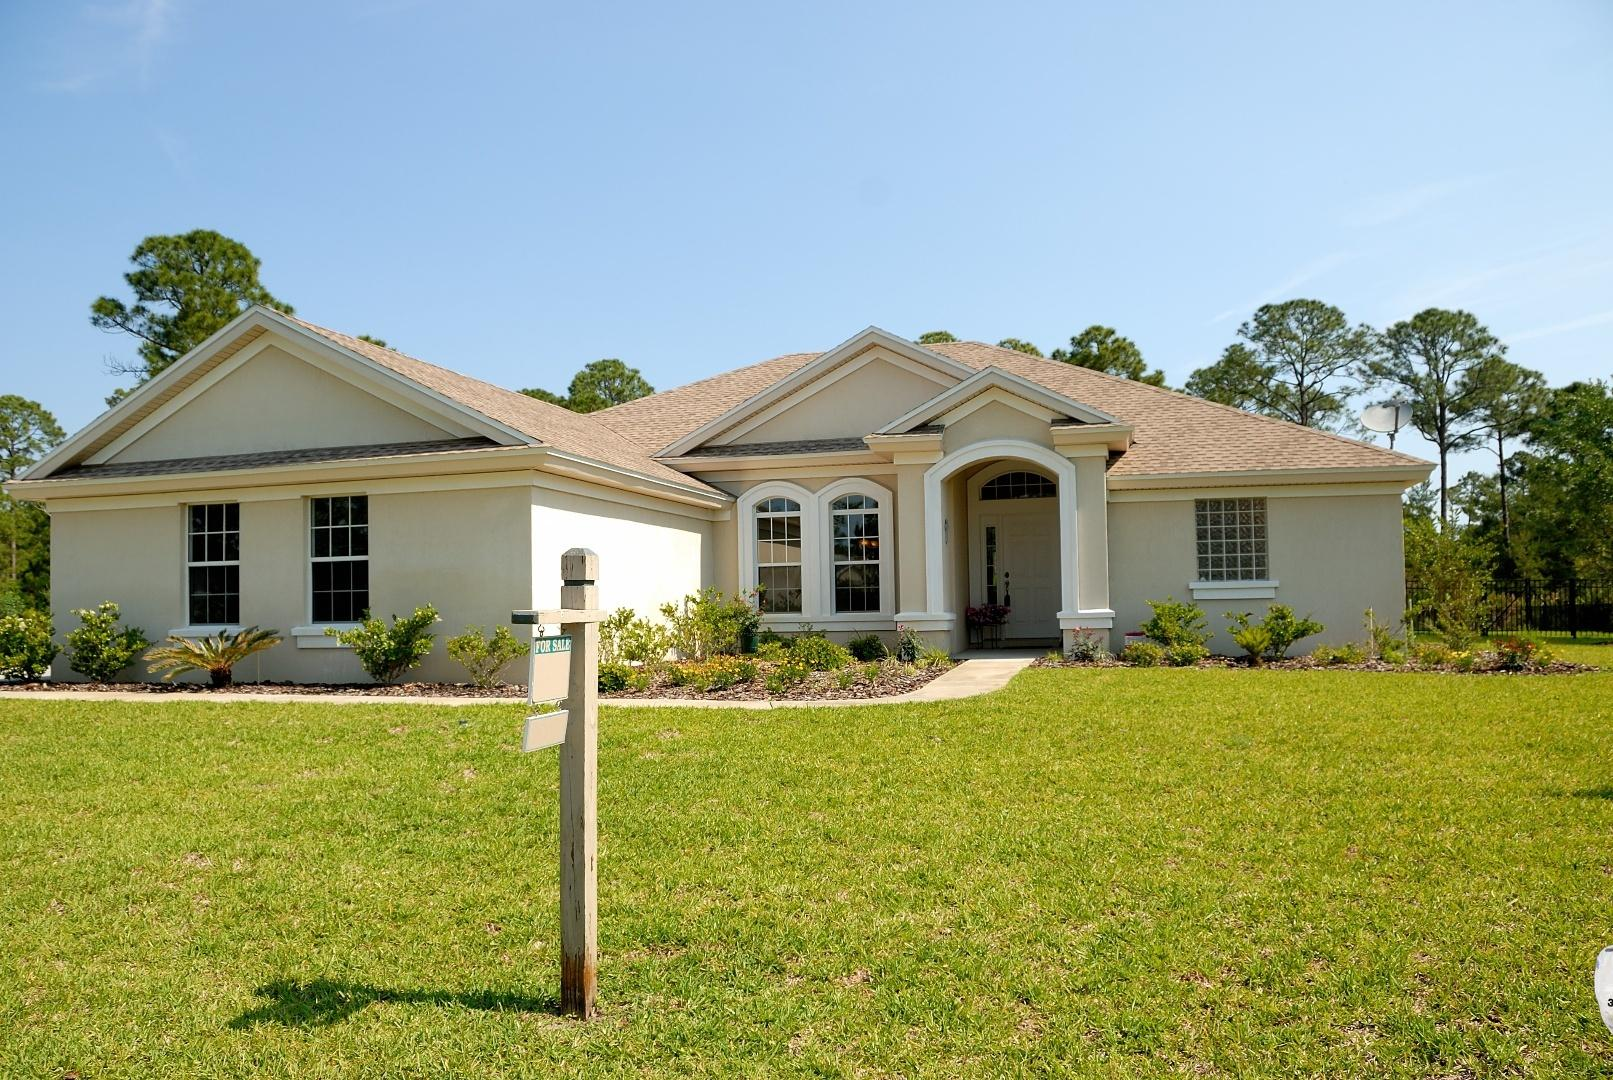trash: (1591, 933, 1613, 1048)
